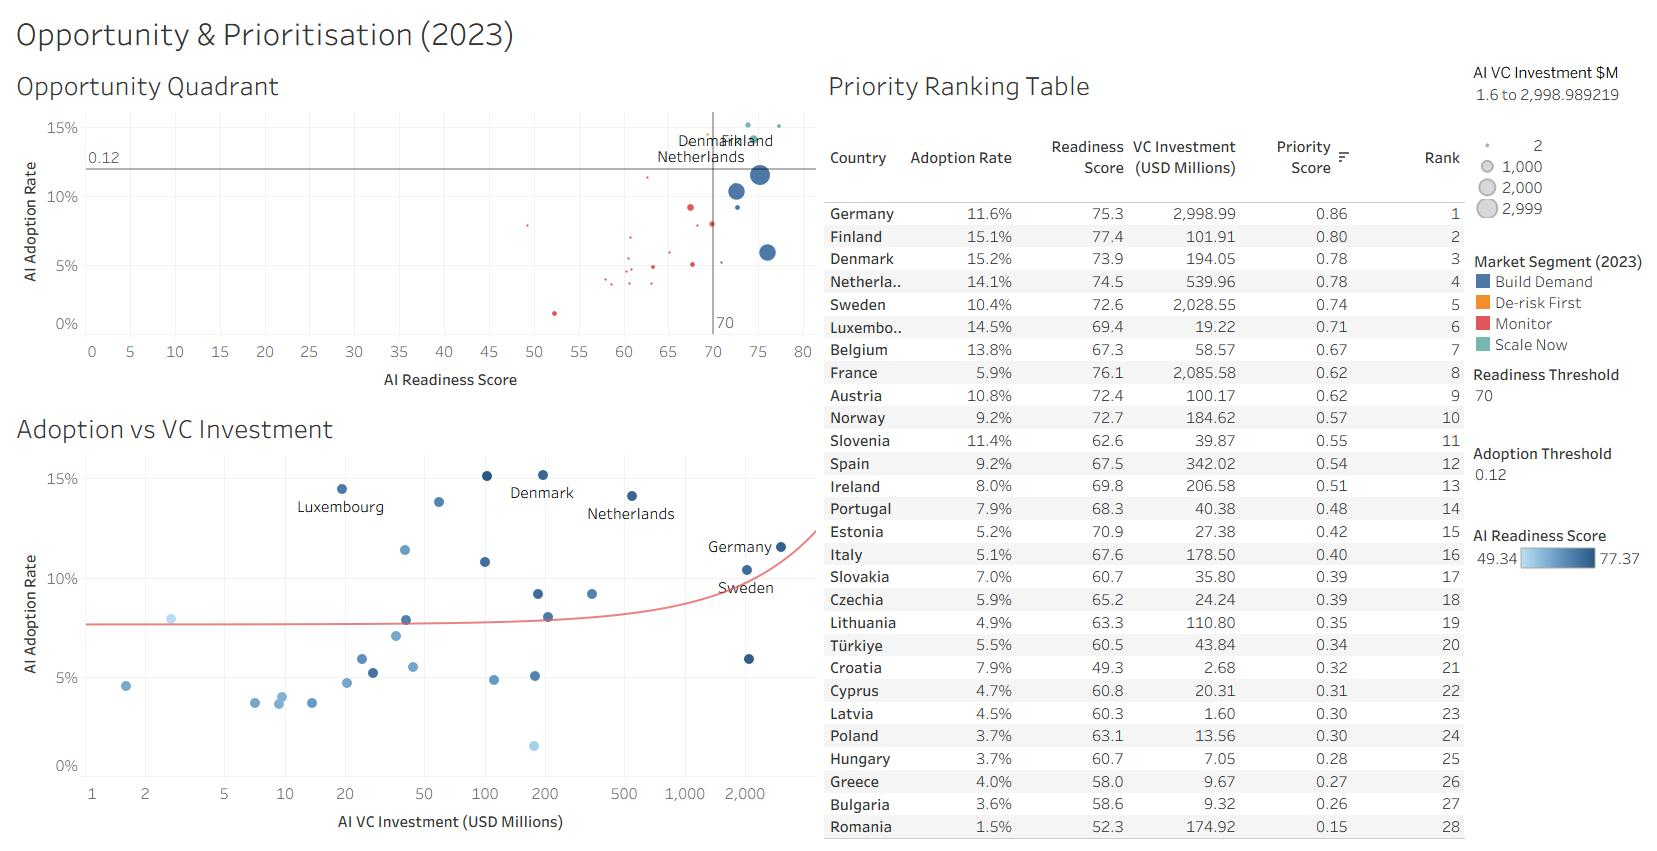

This screenshot's page, from the dashboard's own definition file:
{"tool":"tableau","page":{"name":"Opportunity & Prioritisation (2023)","canvas":[1000,1000],"units":"permille","ordinal":1},"visuals":[{"type":"title","box":[5,9.4,990,58.8]},{"type":"worksheet","title":"Opportunity Quadrant (2023)","mark":"Circle","rows":["Calculation_1885319434250379265"],"cols":["AI_Readiness_Score"],"box":[5,68.2,488.1,403.1]},{"type":"worksheet","title":"Priority Ranking Table (2023)","mark":"Automatic","rows":["Country"],"box":[493.1,68.2,390,922.5]},{"type":"filter","title":"Opportunity Quadrant (2023)","param":"[federated.0j5s8l40ccwcpl18dupxz0knavwq].[sum:AI_VC_Investment:qk]","box":[883.1,68.2,111.9,85.8]},{"type":"legend","title":"Opportunity Quadrant (2023)","param":"[federated.0j5s8l40ccwcpl18dupxz0knavwq].[sum:AI_VC_Investment:qk]","box":[883.1,153.9,111.9,108.1]},{"type":"legend","title":"Opportunity Quadrant (2023)","param":"[federated.0j5s8l40ccwcpl18dupxz0knavwq].[usr:Calculation_1885319434353016839:nk","box":[883.1,262,111.9,134]},{"type":"parameter","param":"[Parameters].[Country Label Parameter]","box":[883.1,396,111.9,92.8]},{"type":"worksheet","title":"Adoption vs VC Investment (2023)","mark":"Circle","rows":["Calculation_1885319434250379265"],"cols":["AI_VC_Investment"],"box":[5,471.2,488.1,519.4]},{"type":"parameter","param":"[Parameters].[AI Adoption Rate (0-1) Parameter]","box":[883.1,488.8,111.9,92.8]},{"type":"legend","title":"Adoption vs VC Investment (2023)","param":"[federated.0j5s8l40ccwcpl18dupxz0knavwq].[avg:AI_Readiness_Score:qk]","box":[883.1,581.7,111.9,85.8]}]}

Visuals, with their boxes on the dashboard's canvas, which has no fixed pixel size, in thousandths of its width and height (x1, y1, x2, y2). These are canvas units, not pixel positions in the 1657x851 screenshot, which may show the page scaled, cropped or inside an application window:
title: {"left": 5, "top": 9, "right": 995, "bottom": 68}
"Opportunity Quadrant (2023)" worksheet (Circle marks): {"left": 5, "top": 68, "right": 493, "bottom": 471}
"Priority Ranking Table (2023)" worksheet: {"left": 493, "top": 68, "right": 883, "bottom": 991}
"Opportunity Quadrant (2023)" filter: {"left": 883, "top": 68, "right": 995, "bottom": 154}
"Opportunity Quadrant (2023)" legend: {"left": 883, "top": 154, "right": 995, "bottom": 262}
"Opportunity Quadrant (2023)" legend: {"left": 883, "top": 262, "right": 995, "bottom": 396}
parameter: {"left": 883, "top": 396, "right": 995, "bottom": 489}
"Adoption vs VC Investment (2023)" worksheet (Circle marks): {"left": 5, "top": 471, "right": 493, "bottom": 991}
parameter: {"left": 883, "top": 489, "right": 995, "bottom": 582}
"Adoption vs VC Investment (2023)" legend: {"left": 883, "top": 582, "right": 995, "bottom": 668}
